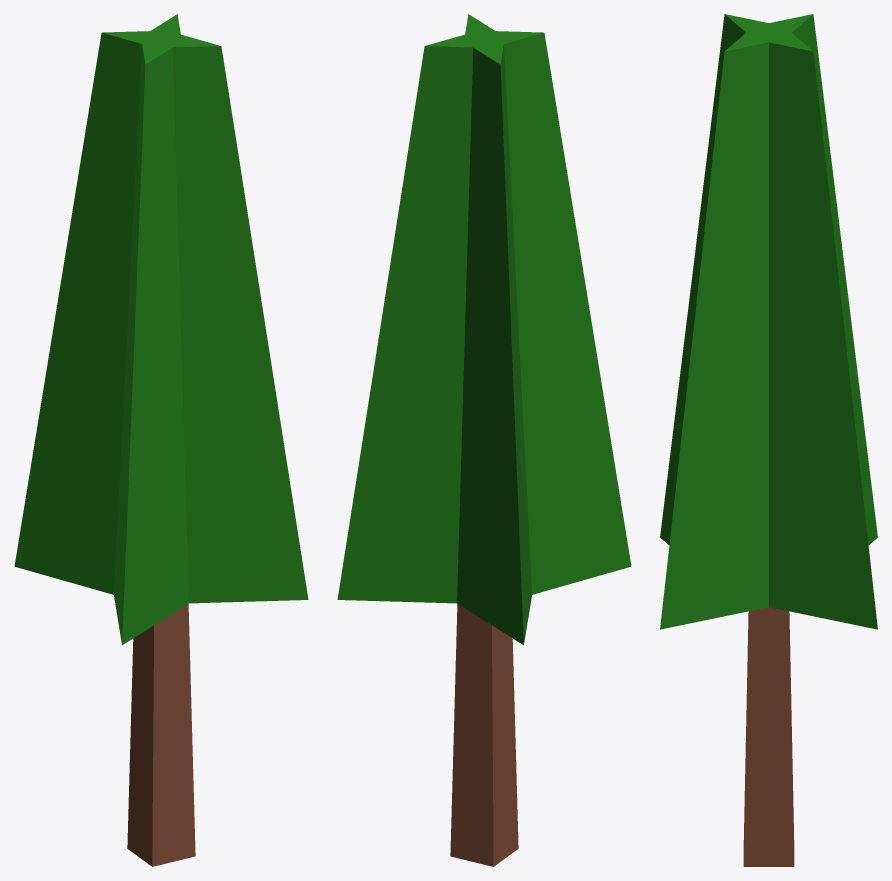
File: Tree_27_summer_mat.fbx
3 renders of one model, left to right at view 1: azimuth 30°, elevation 25°; view 2: azimuth 150°, elevation 25°; view 3: azimuth 270°, elevation 25°, orthographic.
Visible parts, largest first — view 1: Tree_27_summer_mat; view 2: Tree_27_summer_mat; view 3: Tree_27_summer_mat.
Part boxes in pixels (box(x1,y1,x2,y2)): Tree_27_summer_mat: box(14, 14, 308, 866); Tree_27_summer_mat: box(337, 14, 631, 866); Tree_27_summer_mat: box(660, 14, 877, 866).
Size of the model in its own units: 2.53 by 10.54 by 2.53.
